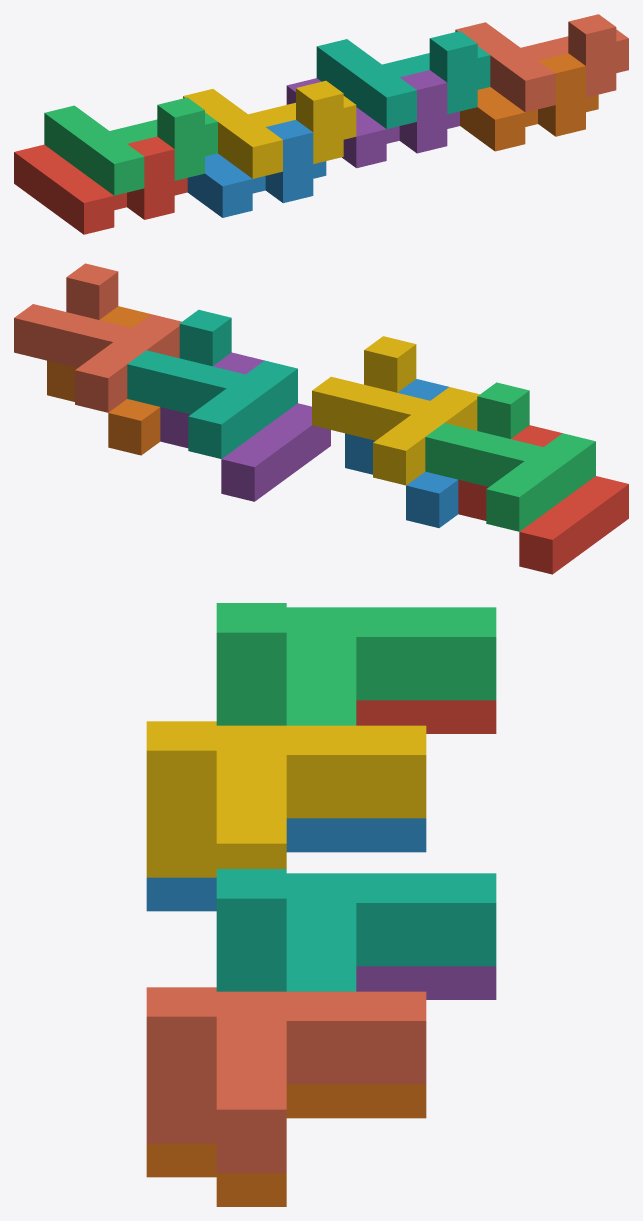
File: tiling.obj
3 views of the same model, one above another, from view 1: azimuth 30°, elevation 25°; view 2: azimuth 150°, elevation 25°; view 3: azimuth 270°, elevation 25° (orthographic). The views are drawn at different scales.
Visible parts, largest first — view 1: copy_1_domain_3, copy_1_domain_7, copy_1_domain_1, copy_1_domain_8, copy_1_domain_4, copy_1_domain_2, copy_1_domain_6, copy_1_domain_5; view 2: copy_1_domain_3, copy_1_domain_7, copy_1_domain_4, copy_1_domain_8, copy_1_domain_1, copy_1_domain_5, copy_1_domain_2, copy_1_domain_6; view 3: copy_1_domain_8, copy_1_domain_4, copy_1_domain_3, copy_1_domain_7, copy_1_domain_6, copy_1_domain_2, copy_1_domain_1, copy_1_domain_5.
Part boxes in pixels (bbox=[...]): copy_1_domain_3: bbox=[44, 97, 217, 195]; copy_1_domain_7: bbox=[316, 31, 490, 128]; copy_1_domain_1: bbox=[14, 136, 187, 234]; copy_1_domain_8: bbox=[455, 14, 628, 112]; copy_1_domain_4: bbox=[183, 80, 356, 178]; copy_1_domain_2: bbox=[187, 120, 326, 217]; copy_1_domain_6: bbox=[460, 53, 598, 151]; copy_1_domain_5: bbox=[286, 70, 459, 168]; copy_1_domain_3: bbox=[425, 382, 595, 531]; copy_1_domain_7: bbox=[127, 309, 297, 458]; copy_1_domain_4: bbox=[312, 336, 479, 485]; copy_1_domain_8: bbox=[14, 263, 181, 412]; copy_1_domain_1: bbox=[458, 425, 628, 574]; copy_1_domain_5: bbox=[160, 352, 330, 501]; copy_1_domain_2: bbox=[345, 379, 458, 527]; copy_1_domain_6: bbox=[47, 306, 160, 455]; copy_1_domain_8: bbox=[146, 987, 426, 1172]; copy_1_domain_4: bbox=[146, 721, 426, 877]; copy_1_domain_3: bbox=[216, 603, 496, 725]; copy_1_domain_7: bbox=[216, 869, 496, 991]; copy_1_domain_6: bbox=[146, 1084, 426, 1206]; copy_1_domain_2: bbox=[146, 818, 426, 911]; copy_1_domain_1: bbox=[356, 700, 496, 733]; copy_1_domain_5: bbox=[356, 966, 496, 999].
Size of the model in its own units: 18 by 3 by 5.
